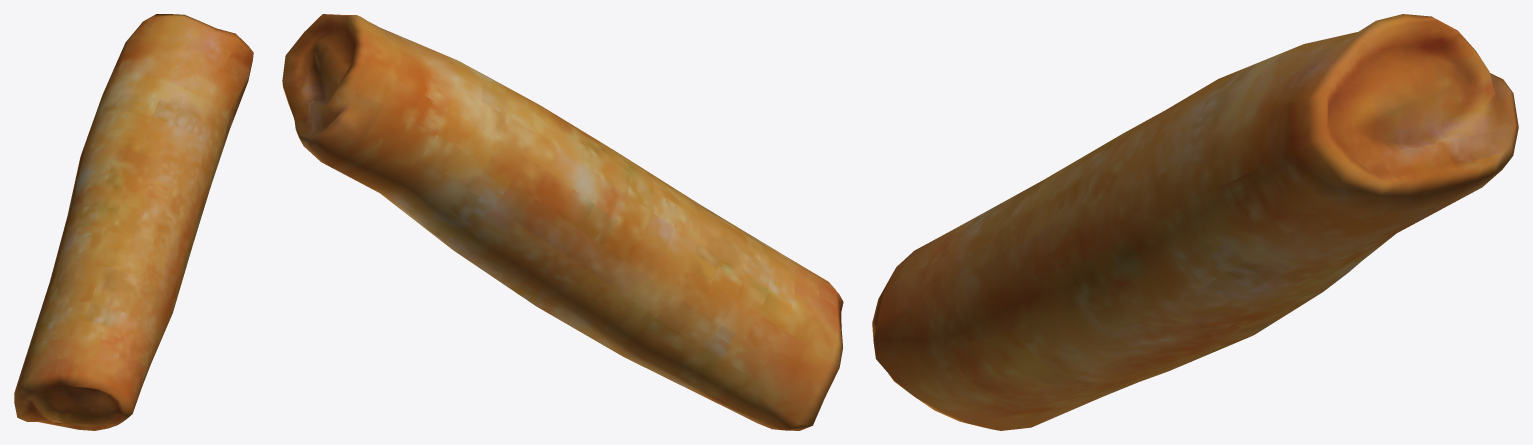
The model's file is ref_bfspringroll.glb.
3 views of the same model, side by side, from view 1: azimuth 30°, elevation 25°; view 2: azimuth 150°, elevation 25°; view 3: azimuth 270°, elevation 25° (orthographic). The views are drawn at different scales.
Visible parts, largest first — view 1: ref_bfspringroll; view 2: ref_bfspringroll; view 3: ref_bfspringroll.
Part boxes in pixels (bbox=[...]): ref_bfspringroll: bbox=[14, 14, 253, 430]; ref_bfspringroll: bbox=[282, 14, 843, 430]; ref_bfspringroll: bbox=[872, 14, 1518, 430].
Bounding box in the file's own units: 1 × 0.916 × 0.9092.
Materials: 1 (1 with a texture image).
